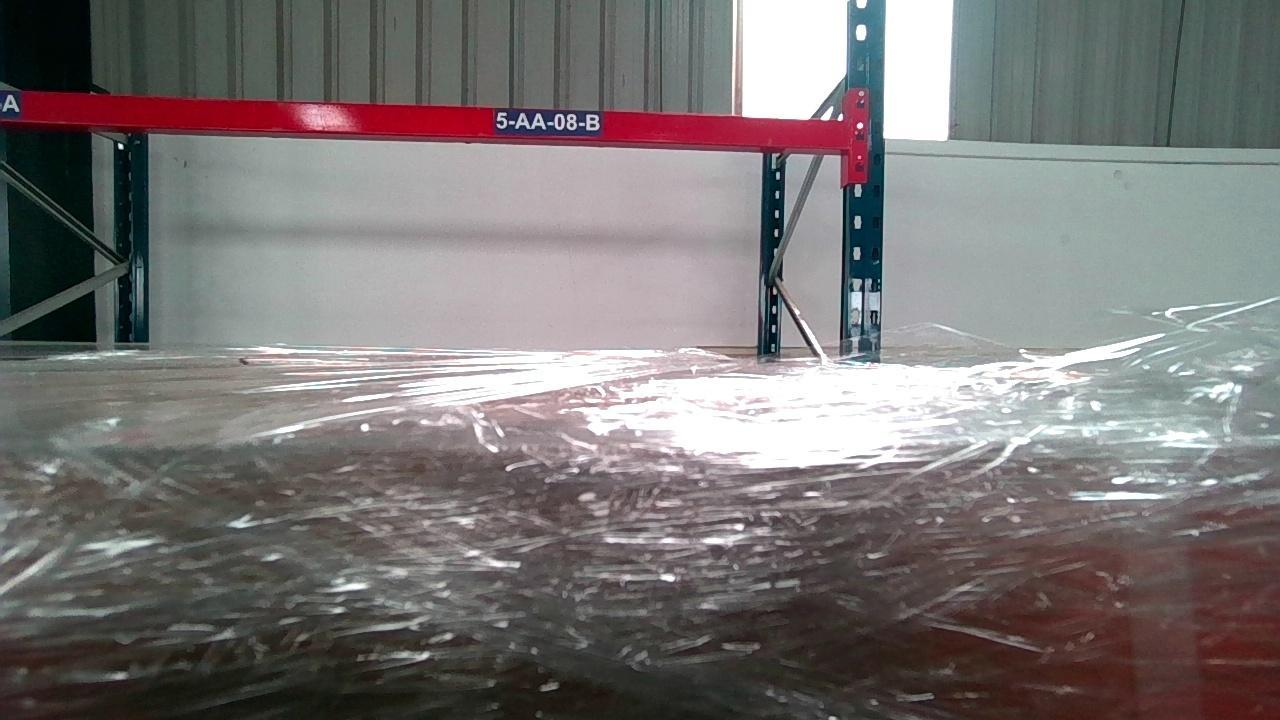h_rack: (0, 89, 850, 147)
